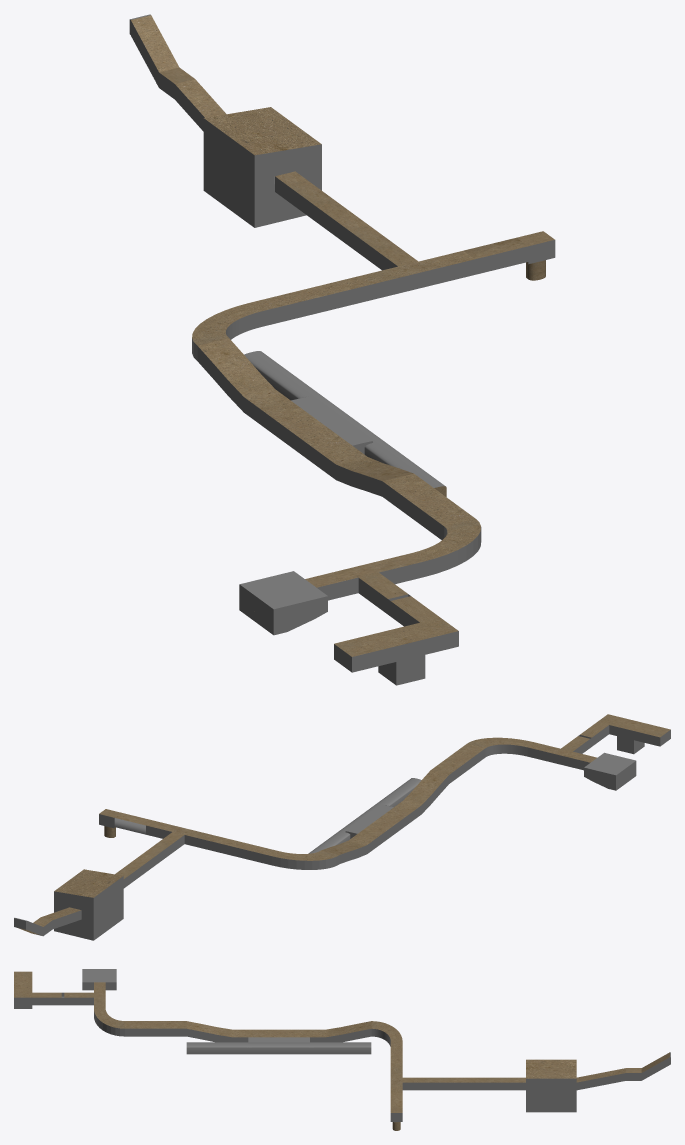
File: underground 3.fbx
3 renders of one model, top to bottom at view 1: azimuth 30°, elevation 25°; view 2: azimuth 150°, elevation 25°; view 3: azimuth 270°, elevation 25°, orthographic. The views are drawn at different scales.
Visible parts, largest first — view 1: Udg_Obj055; view 2: Udg_Obj055; view 3: Udg_Obj055.
Boxes of the visible parts, box(x1,y1,x2,y2) form: Udg_Obj055: box(129, 14, 555, 685); Udg_Obj055: box(14, 714, 670, 940); Udg_Obj055: box(14, 969, 670, 1130).
Bounding box in the file's own units: 5967 × 943 × 11513.
